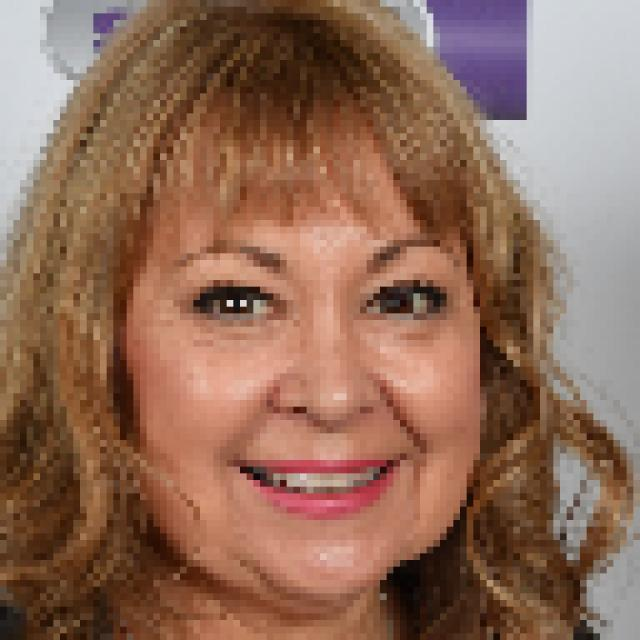happy: (81, 90, 514, 605)
